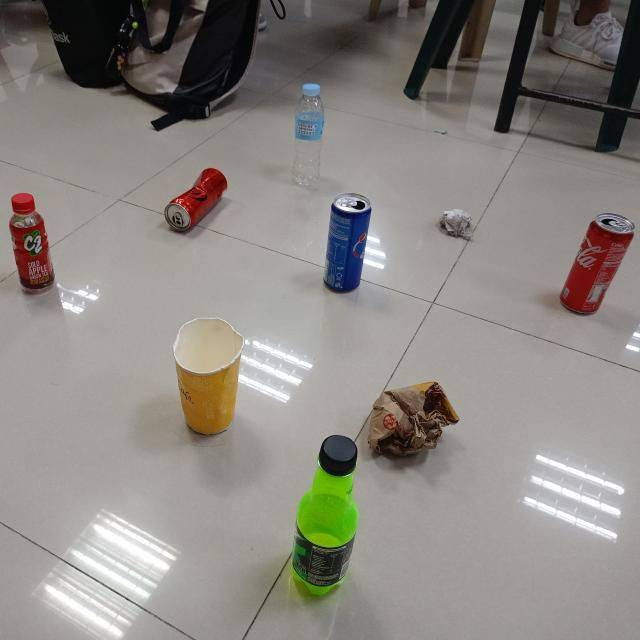recyclable waste: (286, 429, 367, 602), (168, 313, 250, 442), (554, 208, 639, 322), (361, 375, 464, 465), (319, 188, 377, 297), (5, 186, 60, 298), (158, 162, 232, 237), (290, 78, 328, 191), (435, 204, 478, 243)
